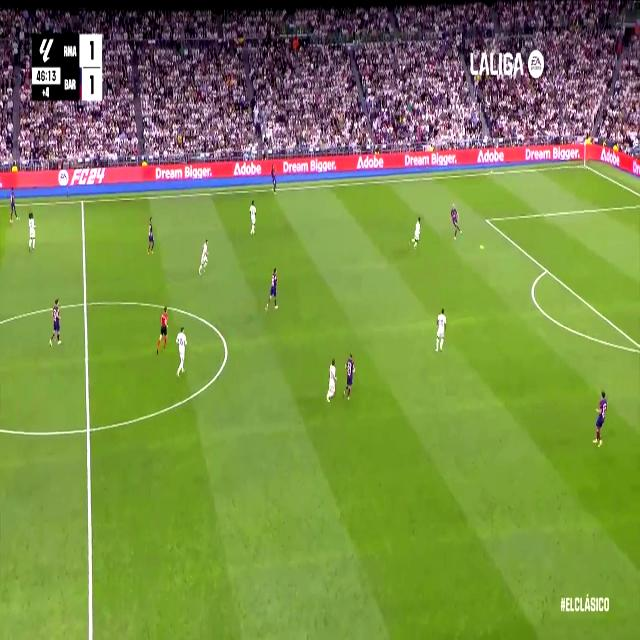bigarea_top_inner: (484, 212, 490, 226)
corner: (580, 158, 588, 170)
halfcircle_bottom: (82, 415, 94, 443)
halfcircle_top: (79, 290, 91, 316)
midline_top_intersection: (78, 195, 86, 208)
top_arc_area_intersection: (543, 262, 550, 277)
